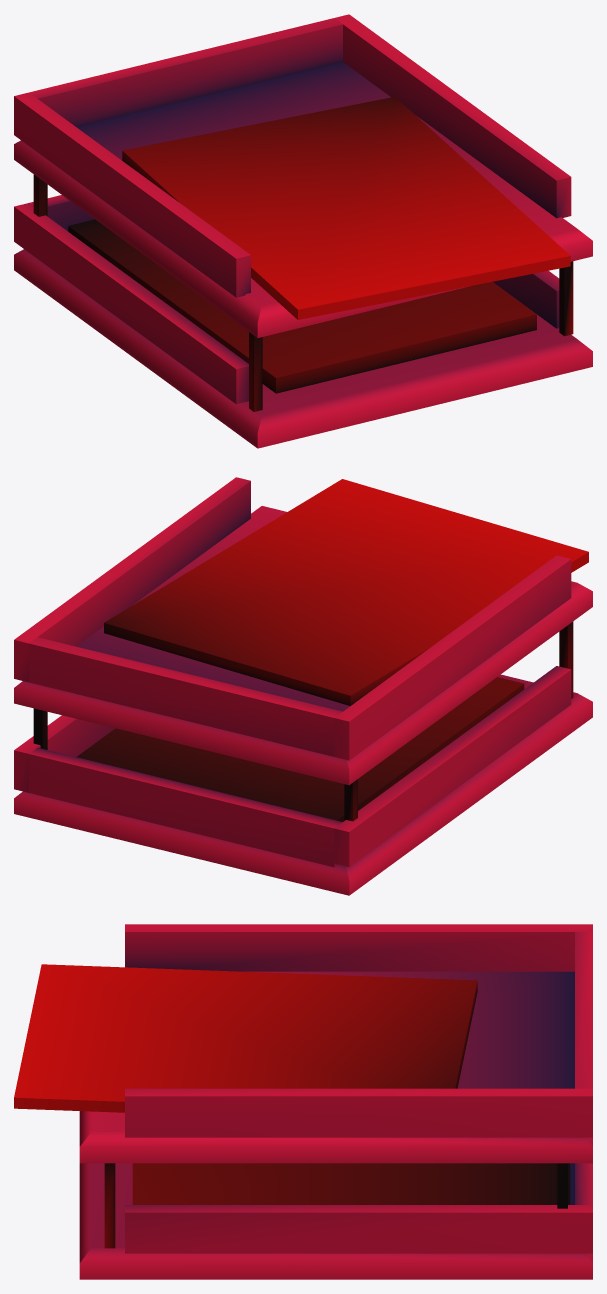
The model's file is CI_Office_LetterTray.glb.
3 renders of one model, top to bottom at view 1: azimuth 30°, elevation 25°; view 2: azimuth 150°, elevation 25°; view 3: azimuth 270°, elevation 25°, orthographic. The views are drawn at different scales.
Visible parts, largest first — view 1: CI_Office_LetterTray; view 2: CI_Office_LetterTray; view 3: CI_Office_LetterTray.
Part boxes in pixels (x1,y1,x2,y2): CI_Office_LetterTray: [14, 14, 592, 448]; CI_Office_LetterTray: [14, 477, 592, 895]; CI_Office_LetterTray: [14, 924, 592, 1279].
Bounding box in the file's own units: 0.27 × 0.134 × 0.3836.
